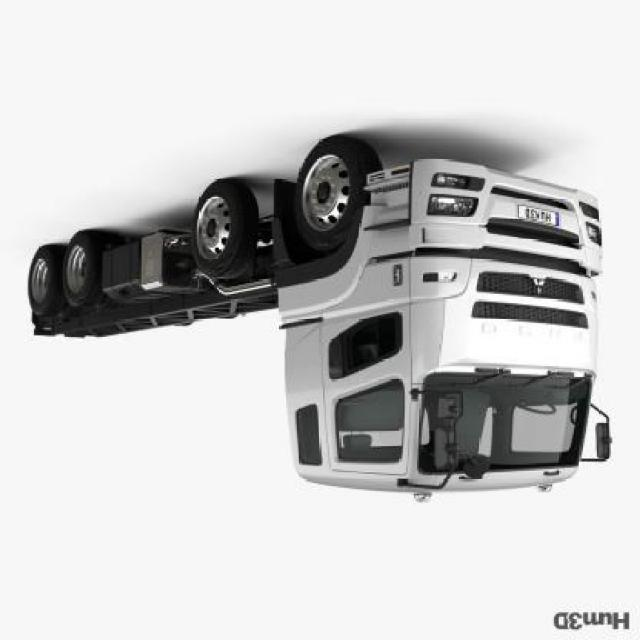truck: (28, 136, 616, 500)
